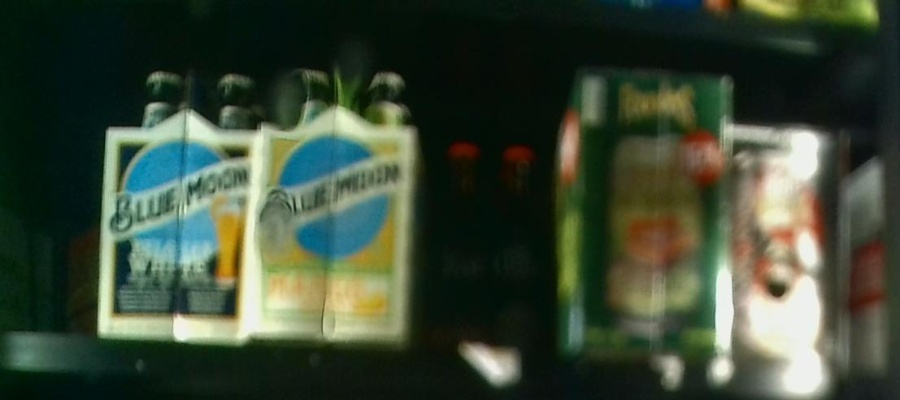bottle: (554, 68, 728, 358), (256, 62, 411, 342), (98, 61, 249, 344), (733, 121, 847, 377), (424, 141, 485, 340), (488, 143, 546, 345)
